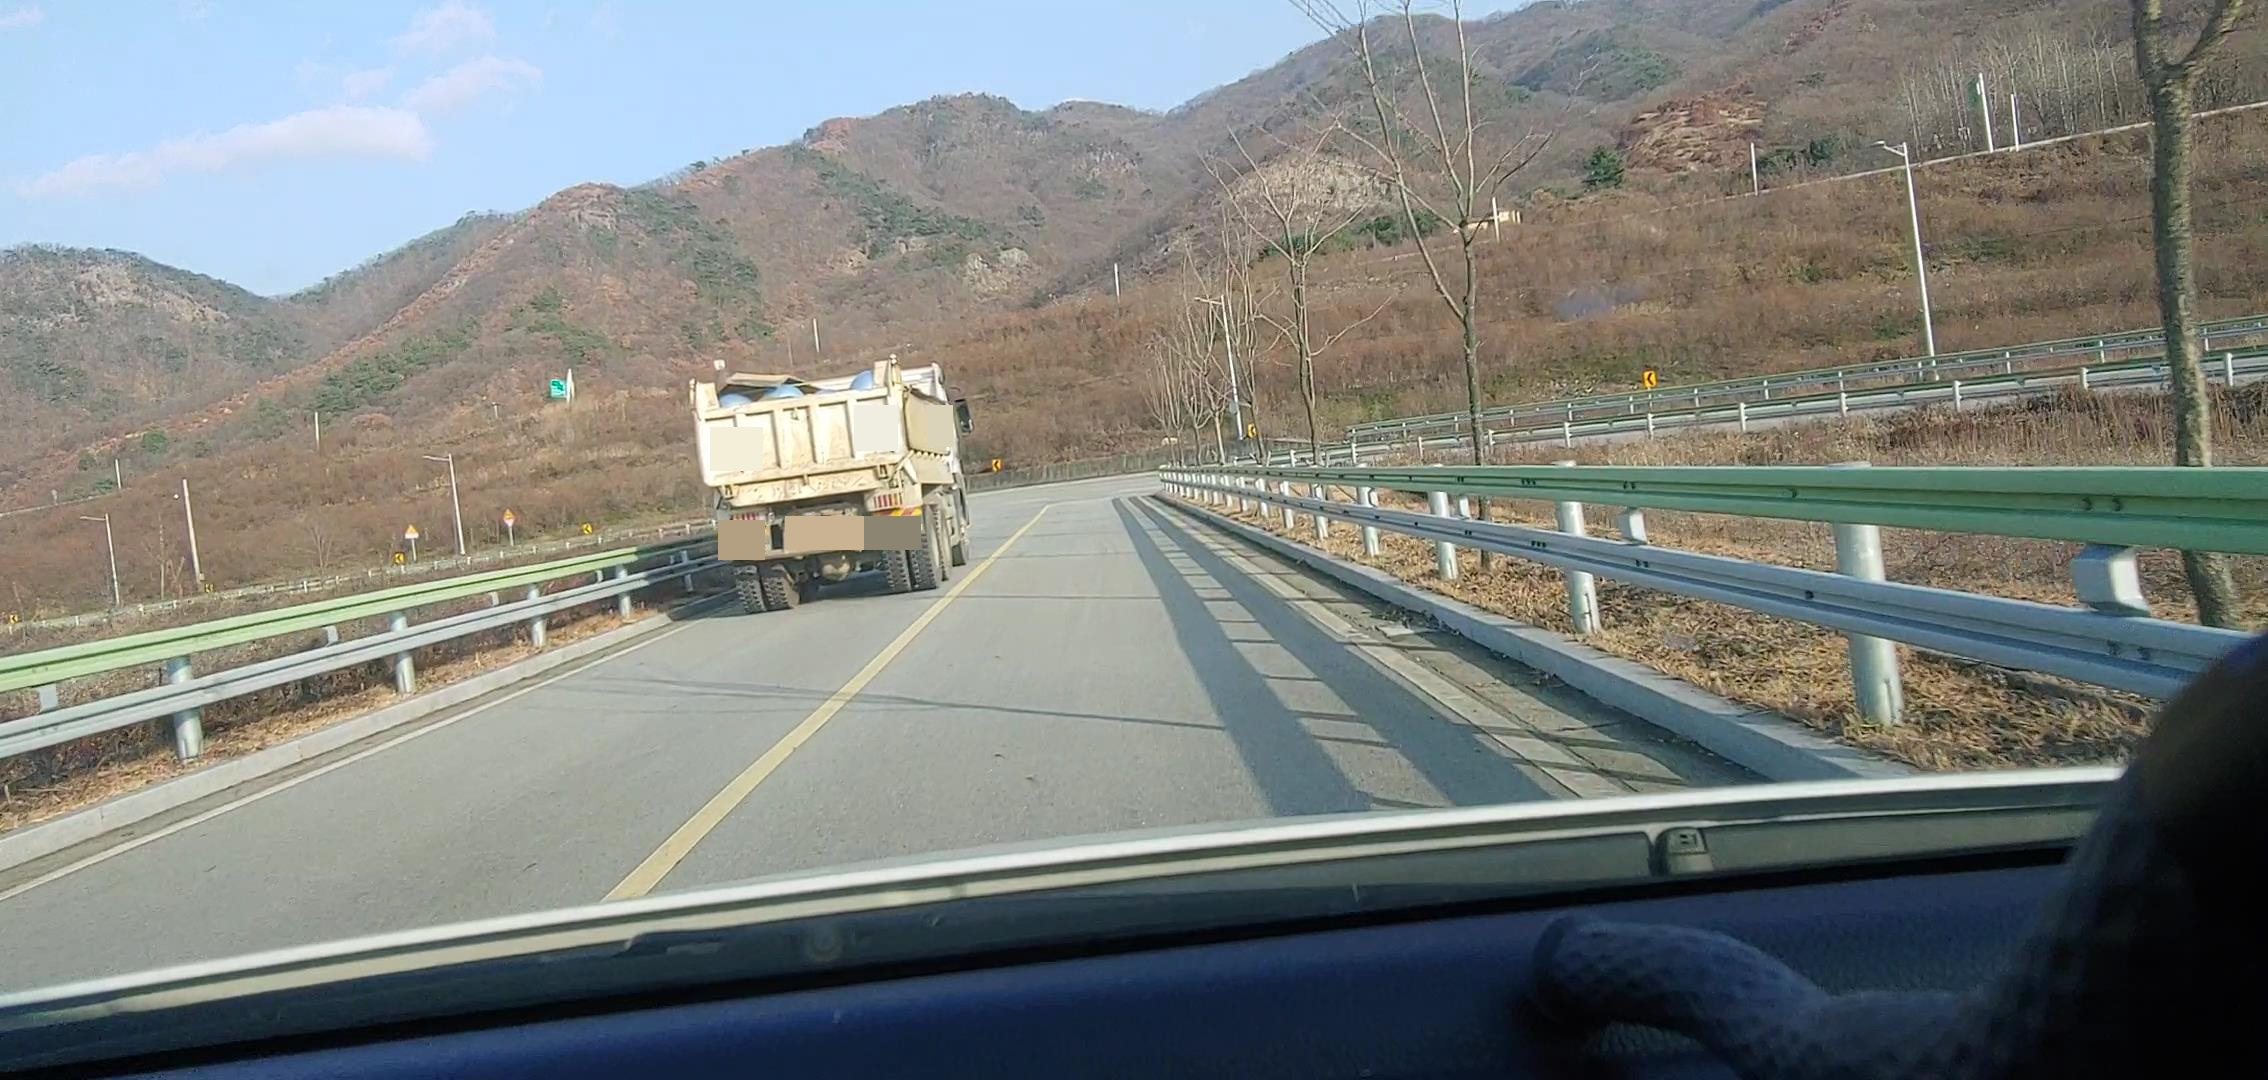불법차량: (683, 356, 978, 614)
